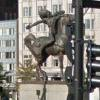Statue: (19, 5, 82, 80)
